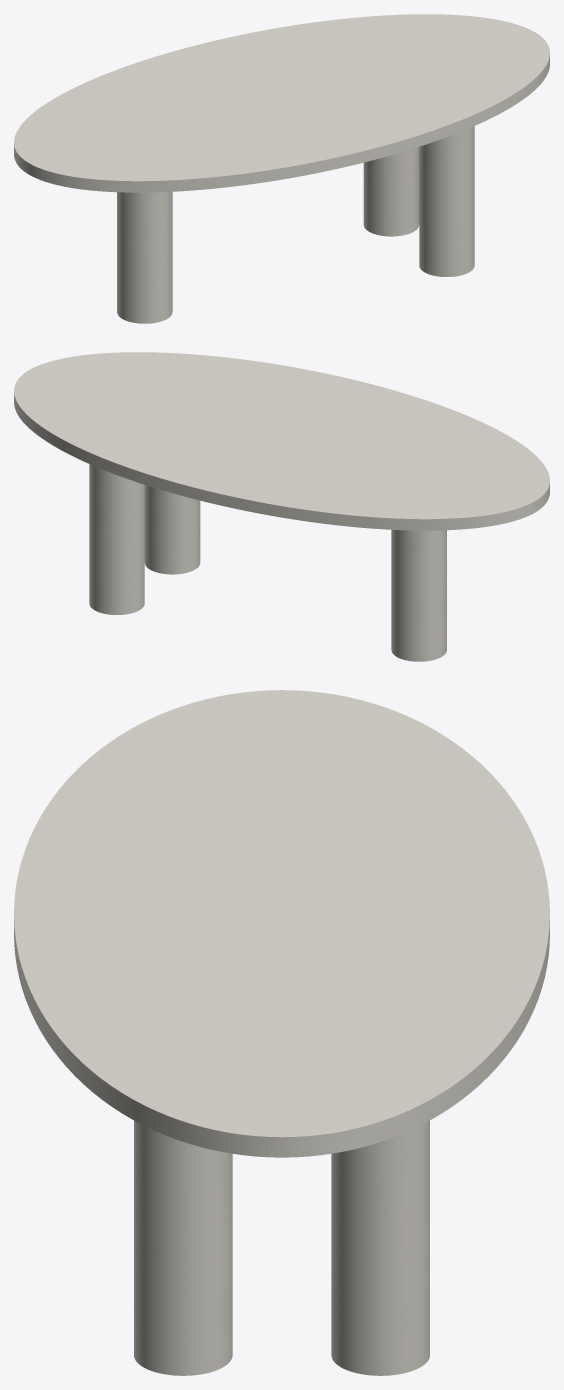
File: pale_ellips_standard_cylinder.glb
3 views of the same model, one above another, from view 1: azimuth 30°, elevation 25°; view 2: azimuth 150°, elevation 25°; view 3: azimuth 270°, elevation 25° (orthographic). The views are drawn at different scales.
Visible parts, largest first — view 1: standard_ellips, cylinder; view 2: standard_ellips, cylinder; view 3: standard_ellips, cylinder.
Part boxes in pixels (x1,y1,x2,y2): standard_ellips: (14, 14, 549, 192); cylinder: (117, 126, 474, 323); standard_ellips: (14, 352, 549, 530); cylinder: (89, 464, 446, 661); standard_ellips: (14, 690, 549, 1157); cylinder: (134, 1120, 429, 1375).
Size of the model in its own units: 7.5 by 2.52 by 3.8.
1 material, 1 textured.
